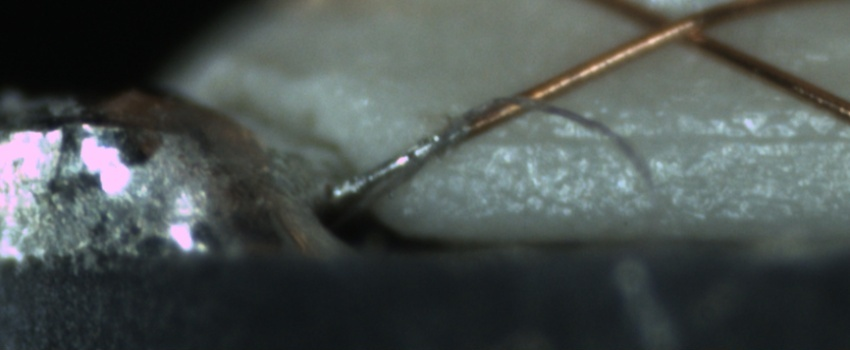CL: (622, 2, 720, 55)
DL: (434, 104, 850, 173)
TS: (321, 122, 470, 207)
